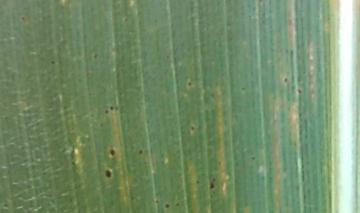tarspot: (102, 165, 115, 181), (106, 147, 121, 159), (184, 77, 196, 91), (208, 177, 217, 190), (188, 123, 197, 133), (281, 74, 289, 85), (248, 154, 257, 163), (163, 202, 172, 211), (48, 58, 57, 67), (194, 178, 202, 186), (92, 51, 100, 59), (240, 85, 247, 94), (19, 13, 26, 22), (297, 88, 304, 96), (137, 149, 145, 156), (98, 121, 104, 128), (115, 106, 121, 113), (110, 105, 115, 113), (174, 202, 180, 208), (104, 110, 109, 116), (155, 199, 159, 204)
